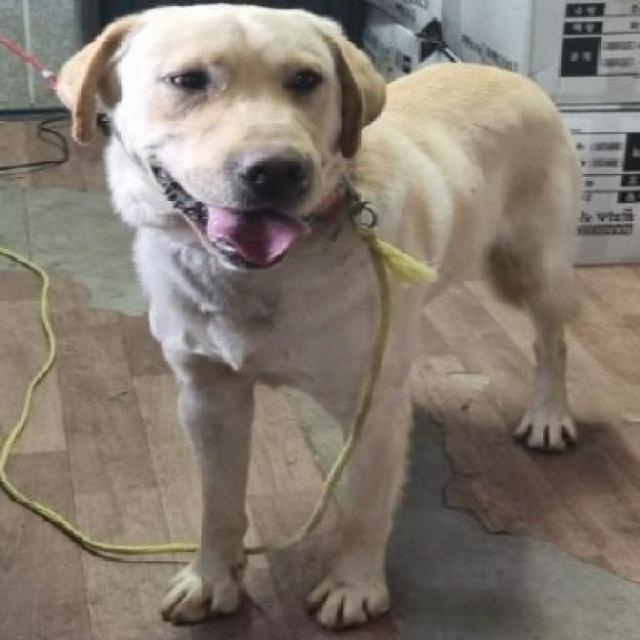Dog: (53, 0, 586, 632)
